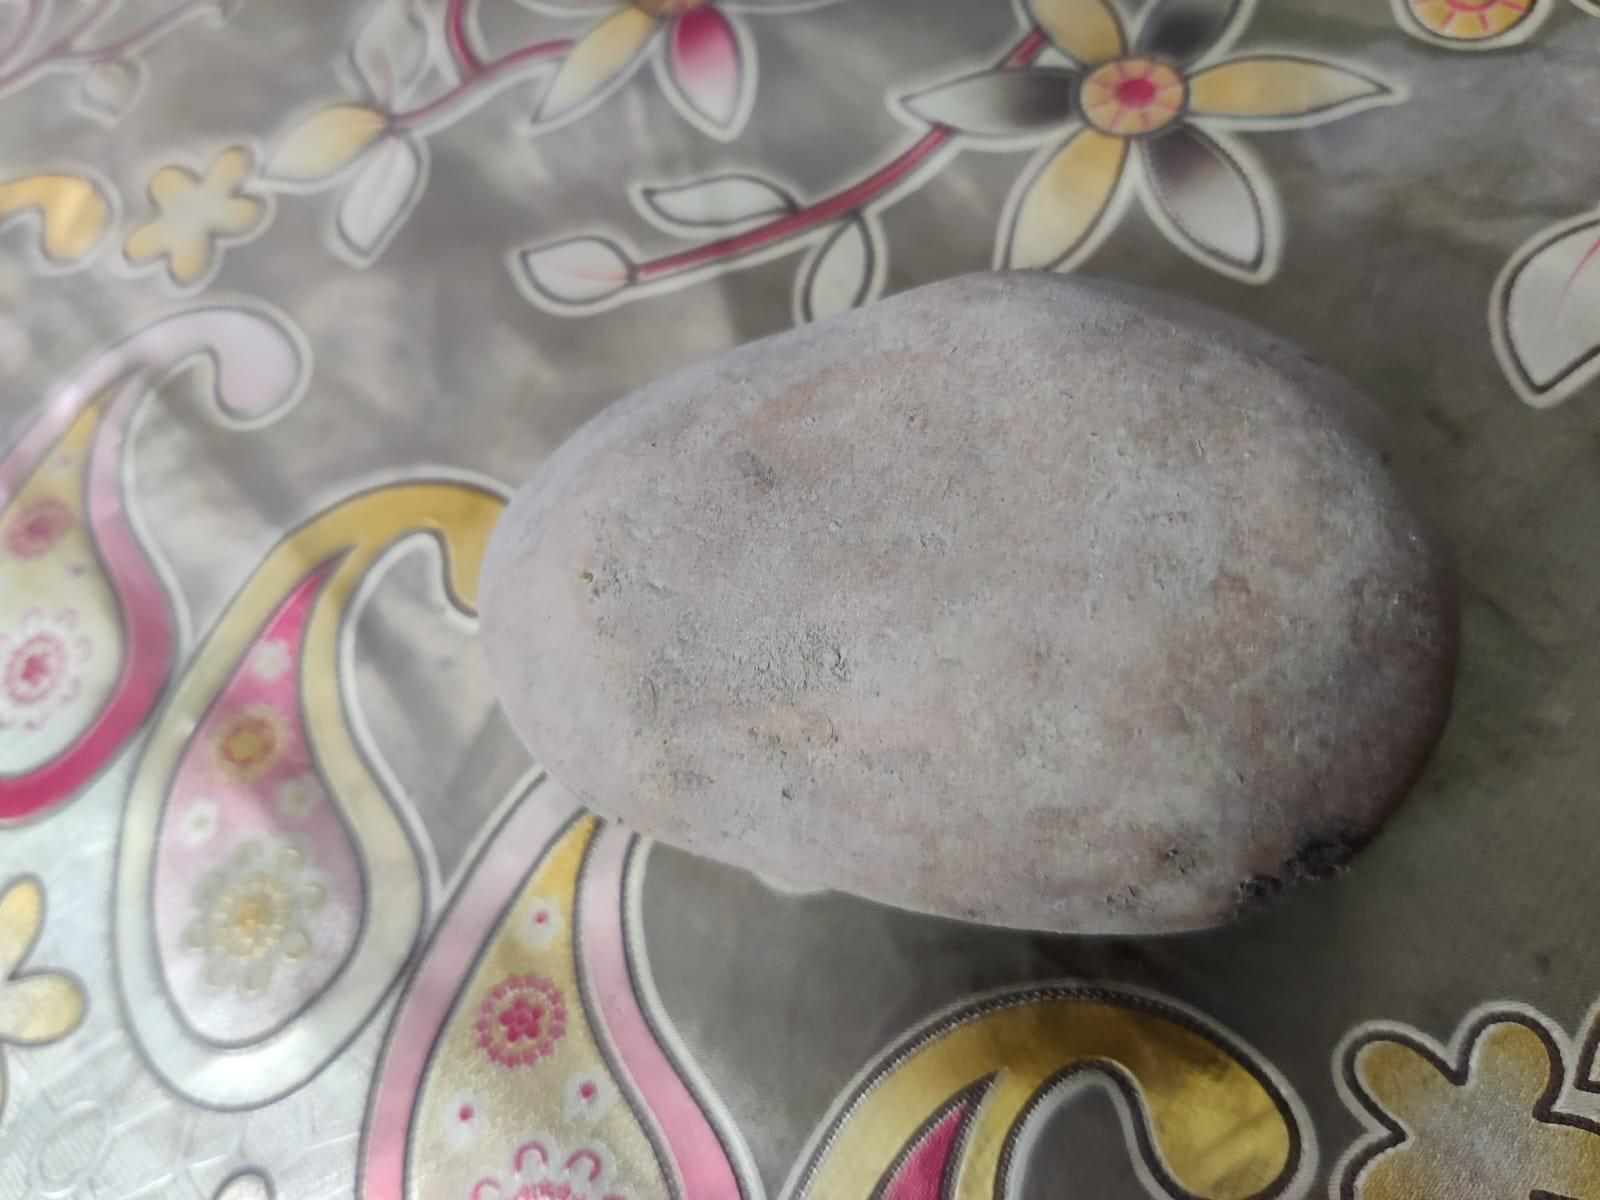non-mango: (477, 267, 1451, 923)
